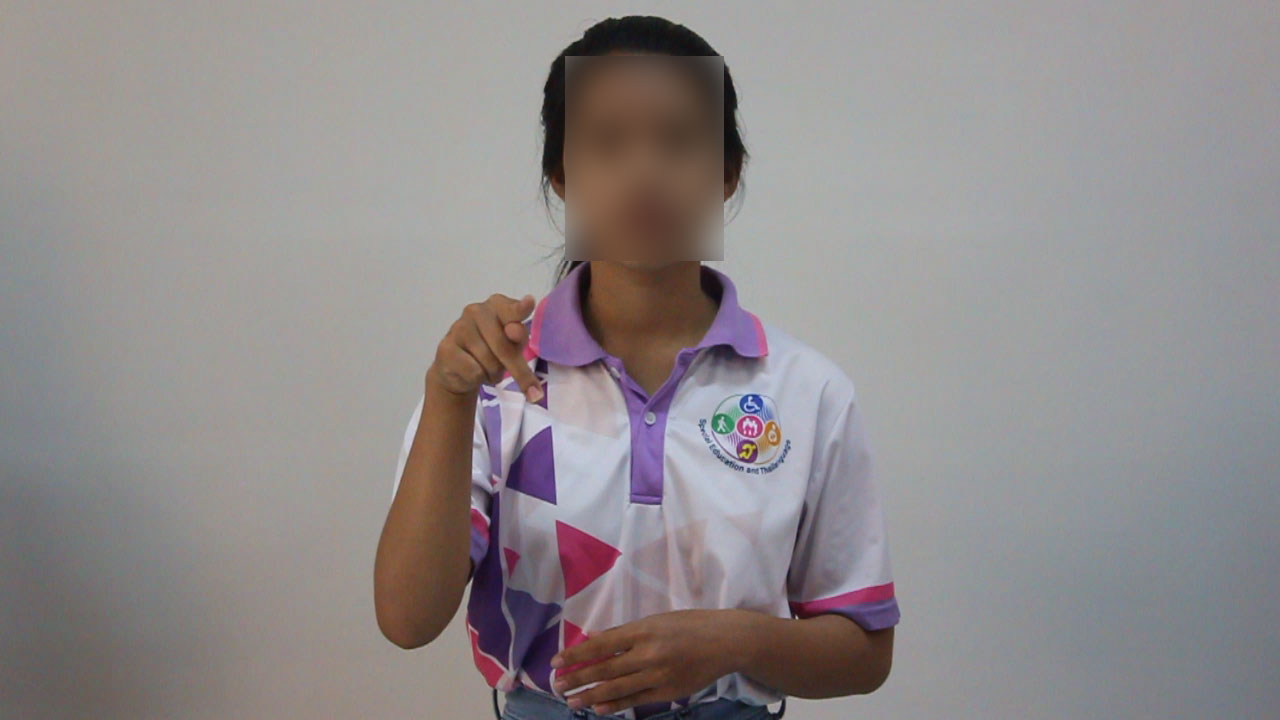por: (419, 273, 554, 419)
